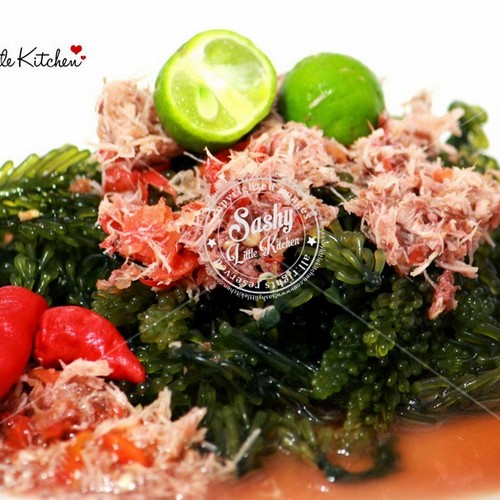bulung buni: (11, 111, 487, 435)
